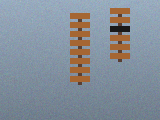defect: (110, 25, 130, 33)
insulator: (68, 11, 92, 86), (108, 6, 132, 63)
